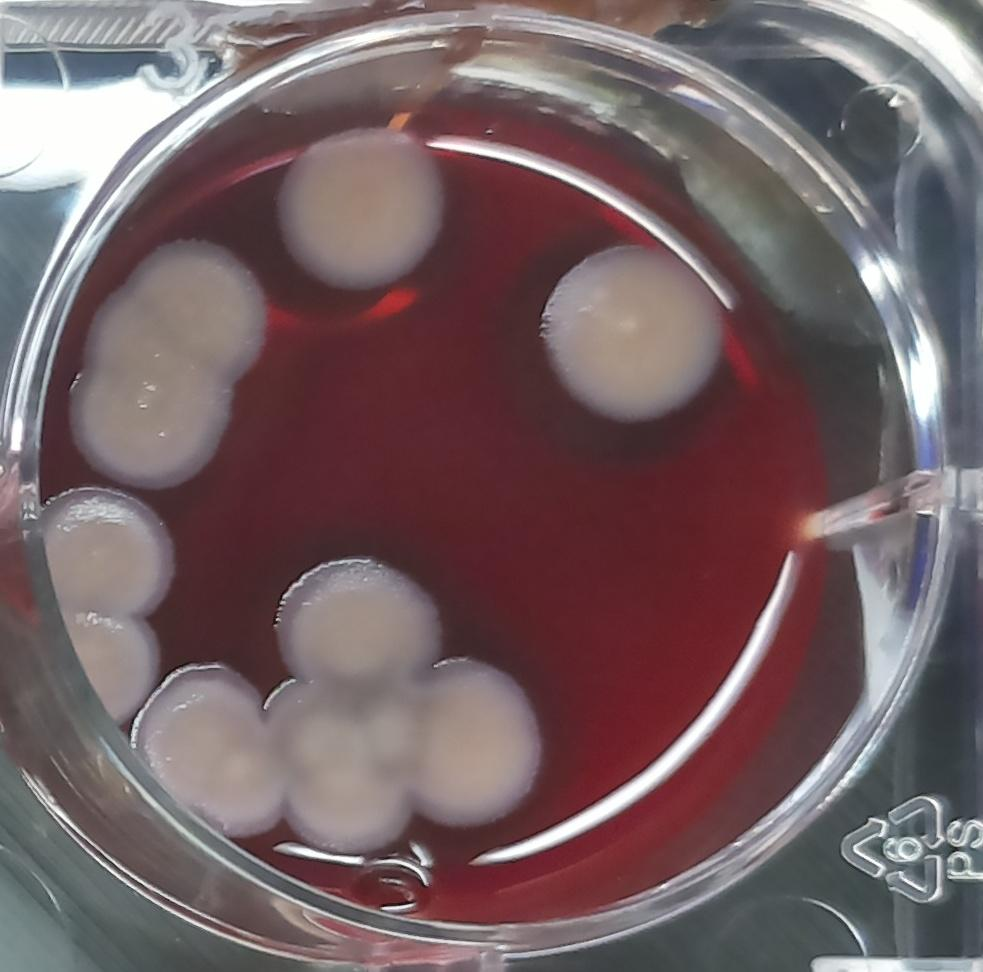bcereus: (61, 215, 262, 487), (522, 210, 750, 439), (401, 632, 560, 845), (250, 532, 449, 701), (272, 118, 454, 301), (261, 660, 420, 861), (120, 652, 279, 832), (30, 470, 184, 617), (41, 601, 166, 731)
